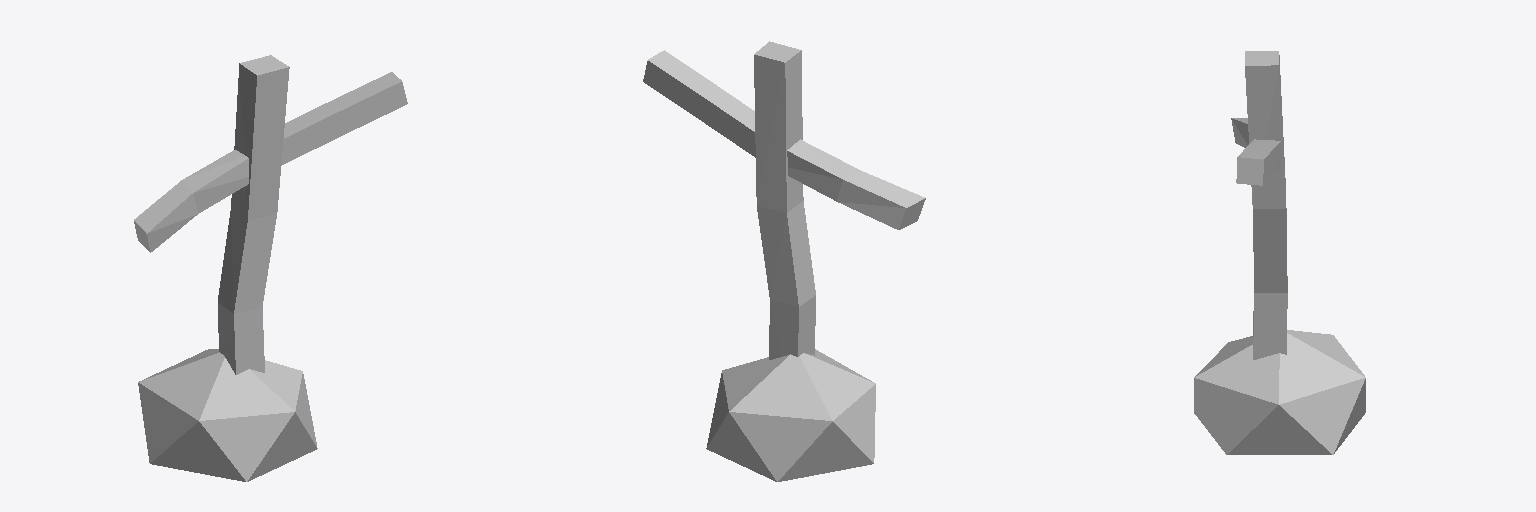
The model's file is cross.obj.
3 renders of one model, left to right at view 1: azimuth 30°, elevation 25°; view 2: azimuth 150°, elevation 25°; view 3: azimuth 270°, elevation 25°, orthographic.
Size of the model in its own units: 0.9139 by 1.29 by 0.5103.